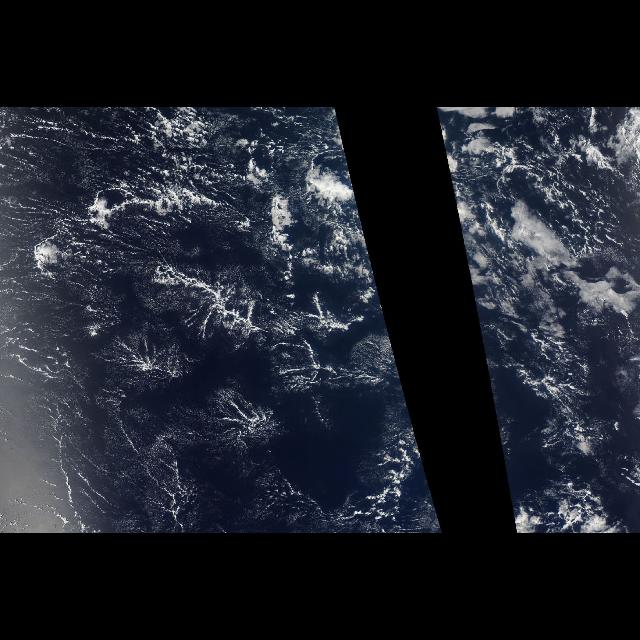Fish: (100, 157, 412, 413), (444, 157, 570, 413)
Gravel: (13, 148, 354, 358)
Sugar: (10, 272, 356, 534)
